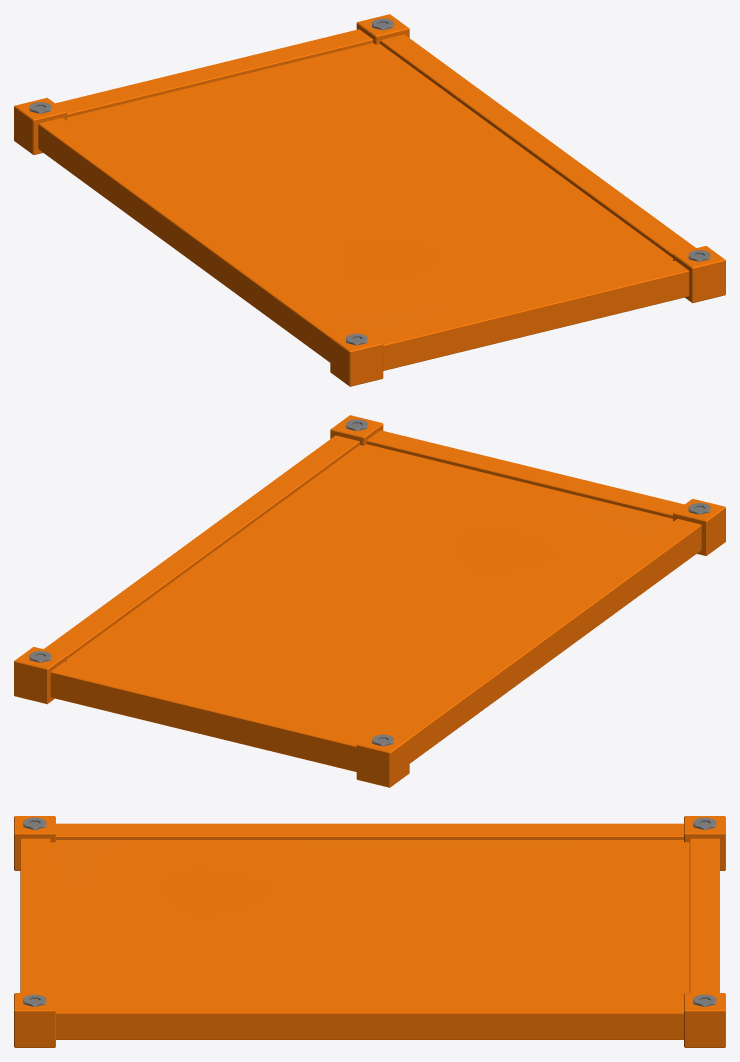
The model's file is DoubleFramedPlatformYellow.fbx.
3 views of the same model, one above another, from view 1: azimuth 30°, elevation 25°; view 2: azimuth 150°, elevation 25°; view 3: azimuth 270°, elevation 25° (orthographic). The views are drawn at different scales.
Visible parts, largest first — view 1: Cube, Cube.001; view 2: Cube, Cube.001; view 3: Cube, Cube.001.
Boxes of the visible parts, x1,y1,x2,y2 form: Cube: (14,14,725,386); Cube.001: (29,18,710,345); Cube: (14,415,725,787); Cube.001: (29,419,710,746); Cube: (14,816,725,1047); Cube.001: (23,817,716,1006).
Bounding box in the file's own units: 11 × 1.05 × 17.
